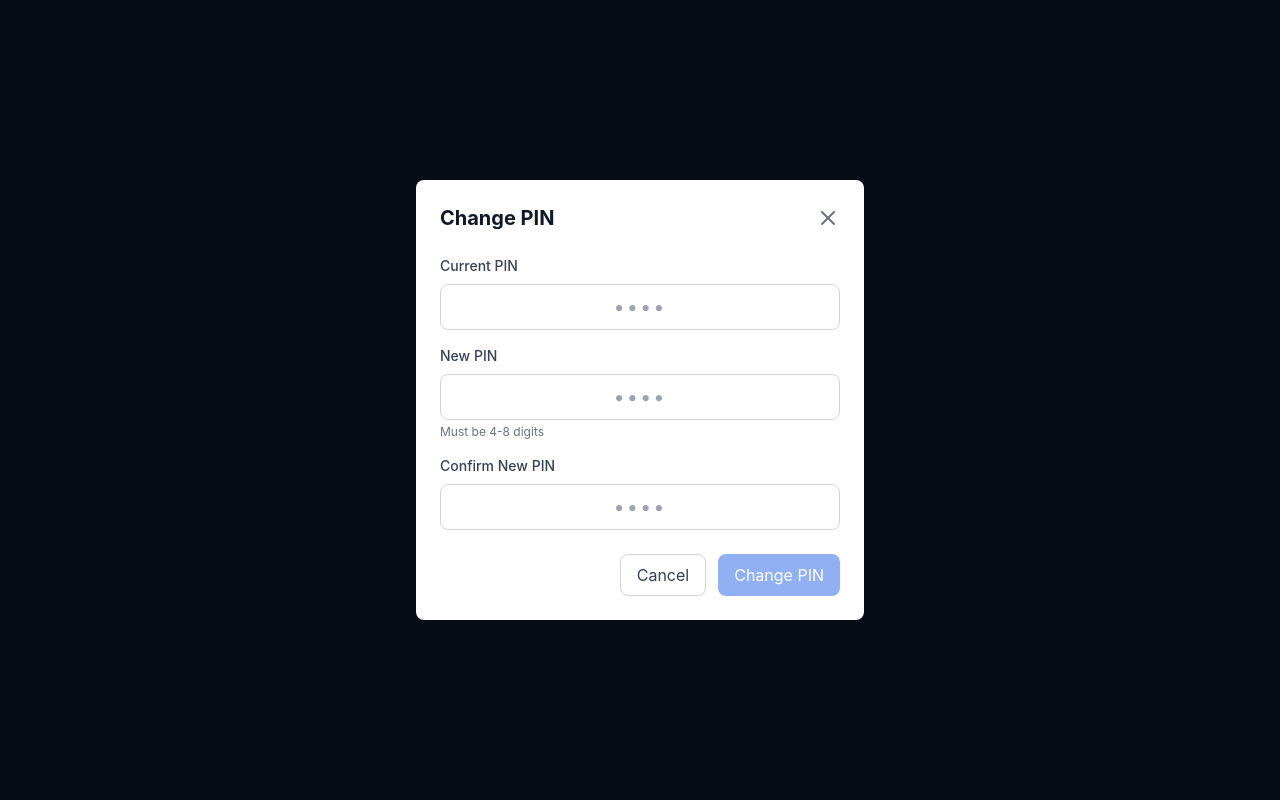
Scenario: PinChangeModal › should show error when PINs do not match
Type "1234" into the password field with placeholder "••••" below "Current PIN" at {"x": 640, "y": 307}, box top-left (440, 284), bottom-right (840, 330)
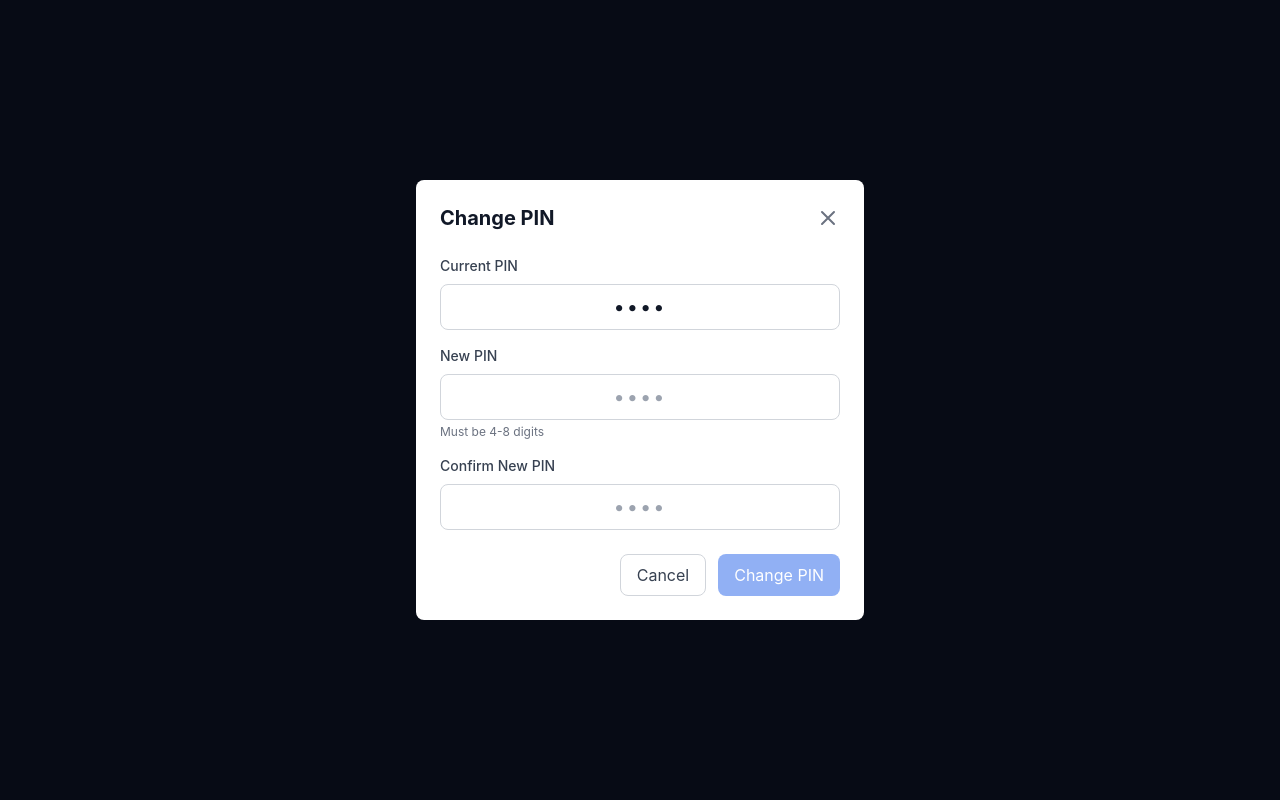
Type "5678" into the 1st password field with placeholder "••••" at {"x": 640, "y": 397}, box top-left (440, 374), bottom-right (840, 420)
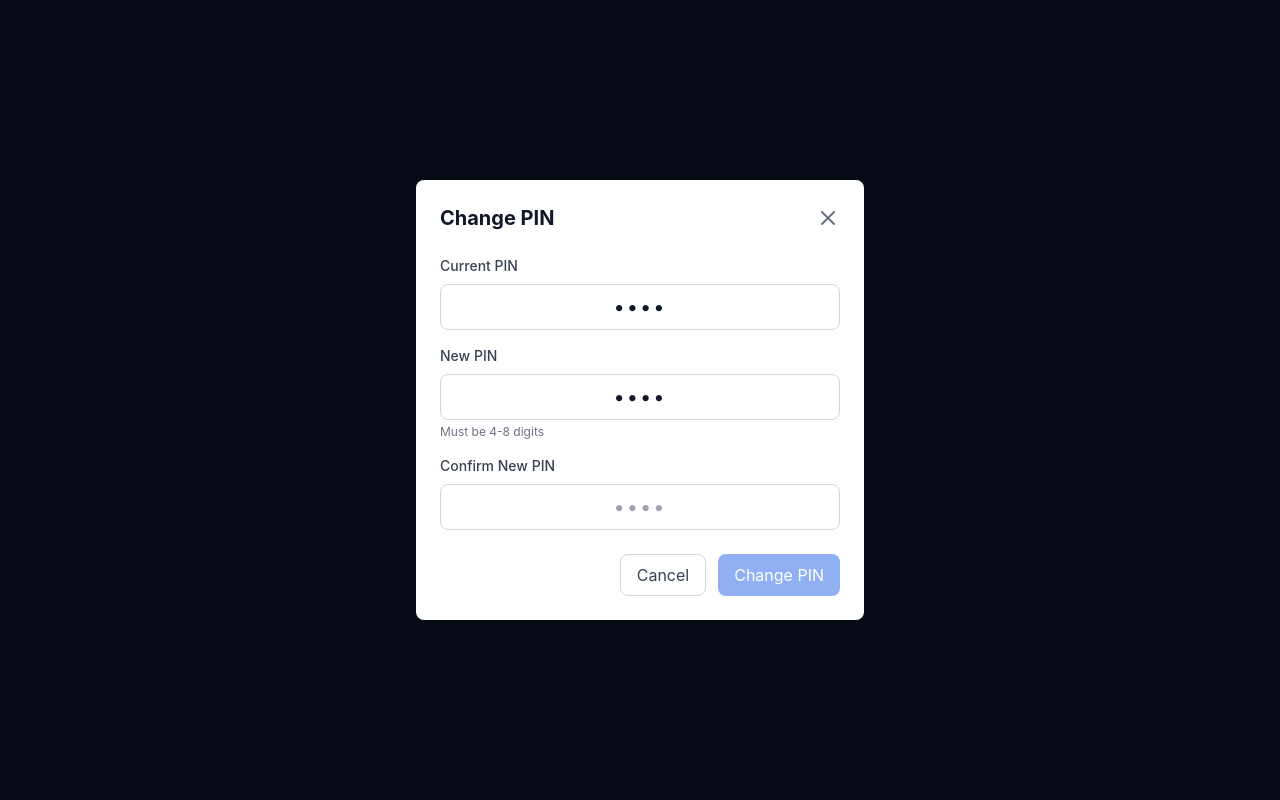
Type "9999" into the password field with placeholder "••••" at {"x": 640, "y": 507}, box top-left (440, 484), bottom-right (840, 530)
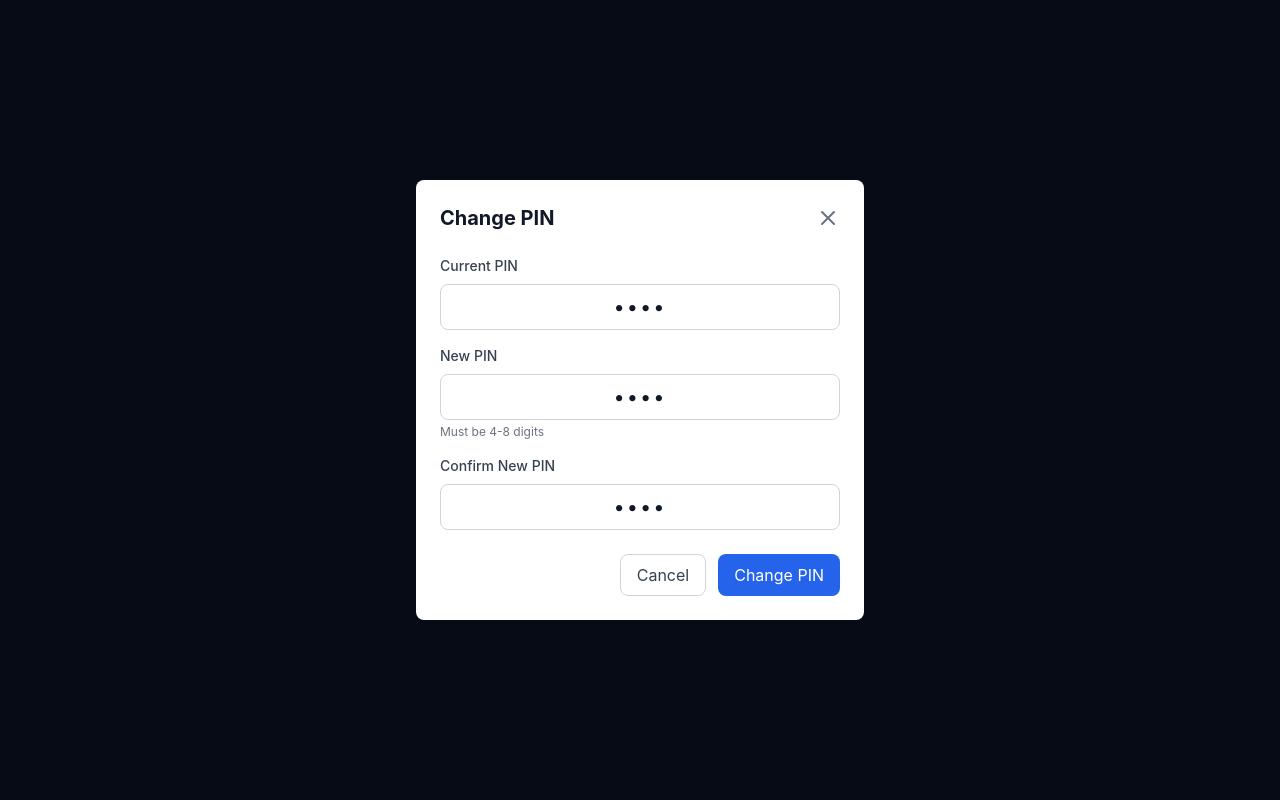
Click the button "Change PIN" at {"x": 779, "y": 575}, box top-left (718, 554), bottom-right (840, 596)
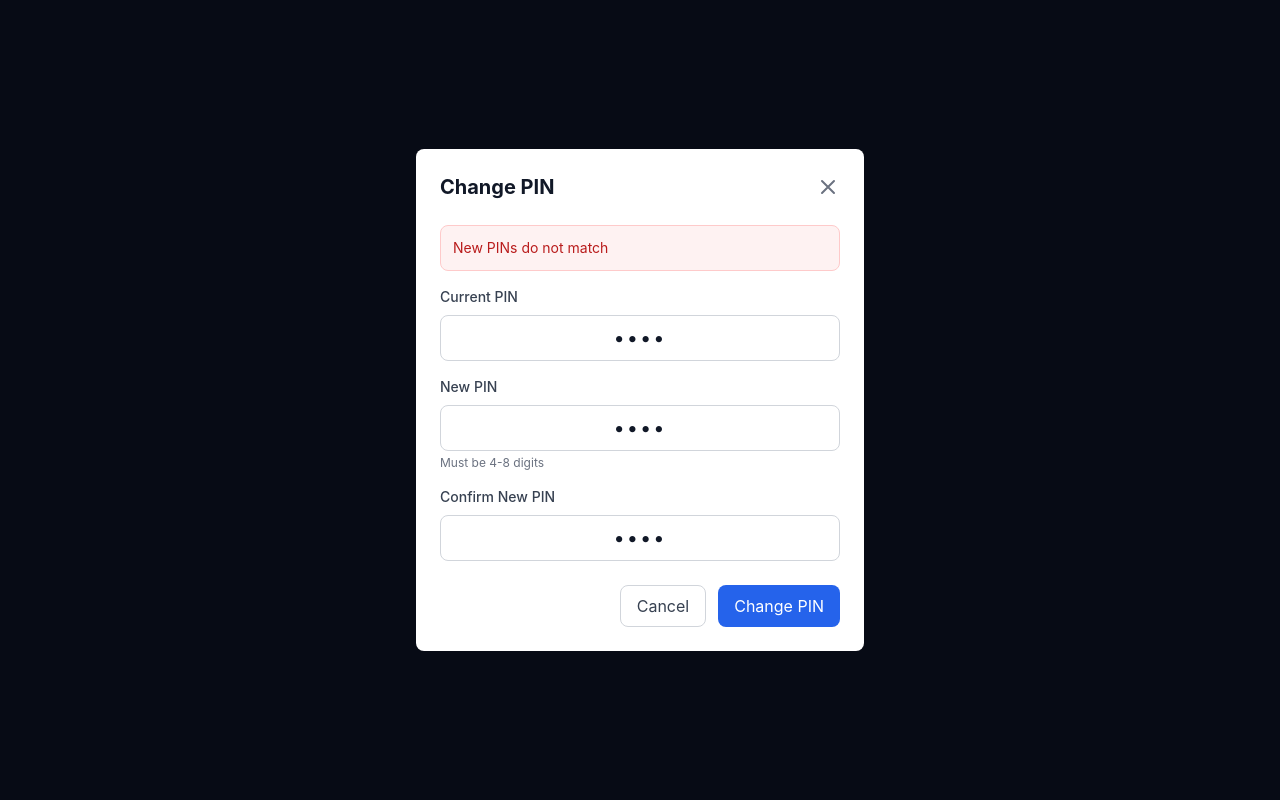
Now the text "New PINs do not match" is shown, box top-left (440, 225), bottom-right (840, 271)
